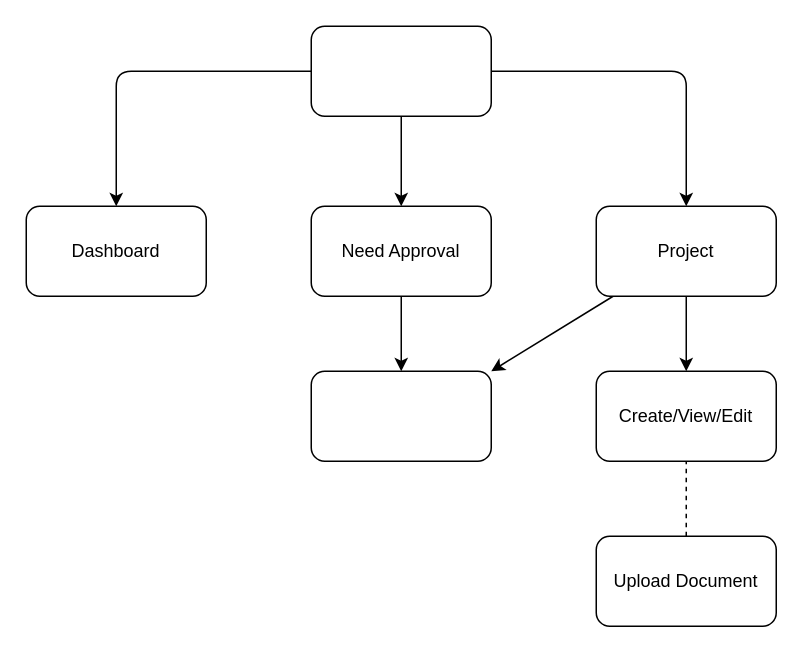
The diagram is 803 pixels wide and 653 high, and some of its shapes have lost their labels. The shapes that lost their labels are listed below. From the top down, each one's centre as x and y in pixels, then its label:
point (400, 70): Login
point (400, 415): Approval (Reject /Revise /Approve)
